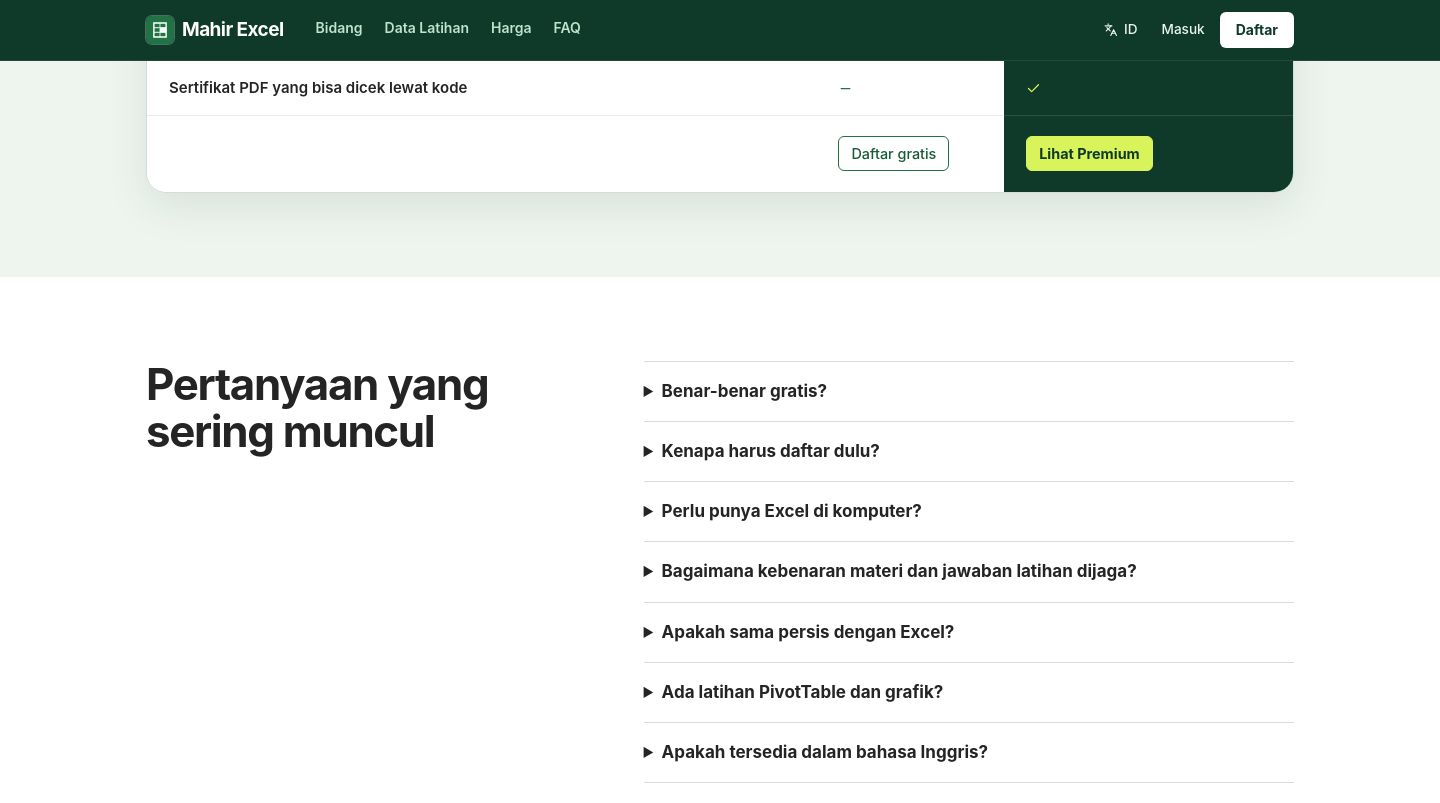
Test: beranda pengunjung › FAQ memakai elemen details yang dapat dibuka dan ditutup
(page scrolled)
Step 1. Click the heading "Benar-benar gratis?" → [744, 391], box [662,381,827,401]
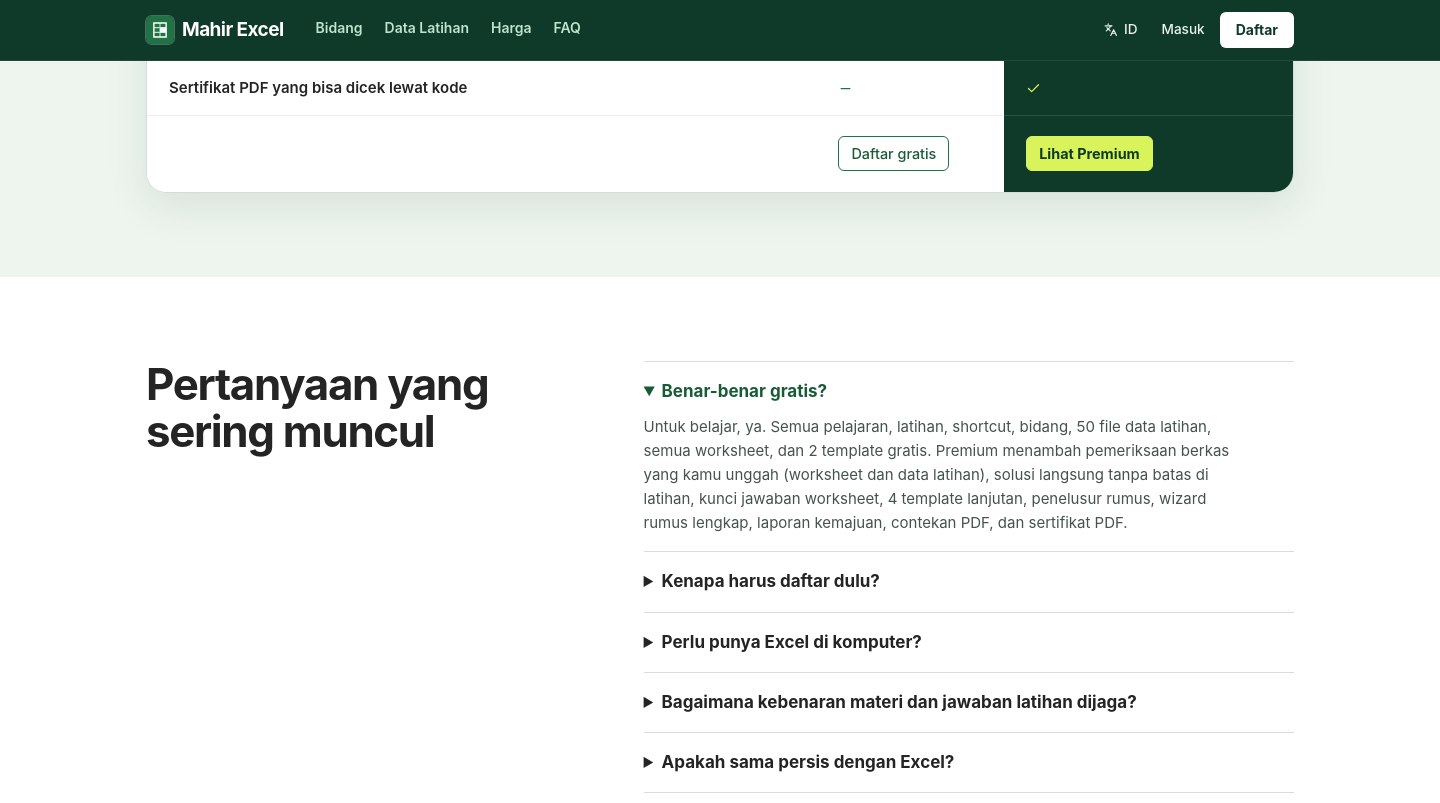
Expected: the text "Premium menambah pemeriksaan berkas yang kamu unggah" is shown, [644,418,1229,532]
